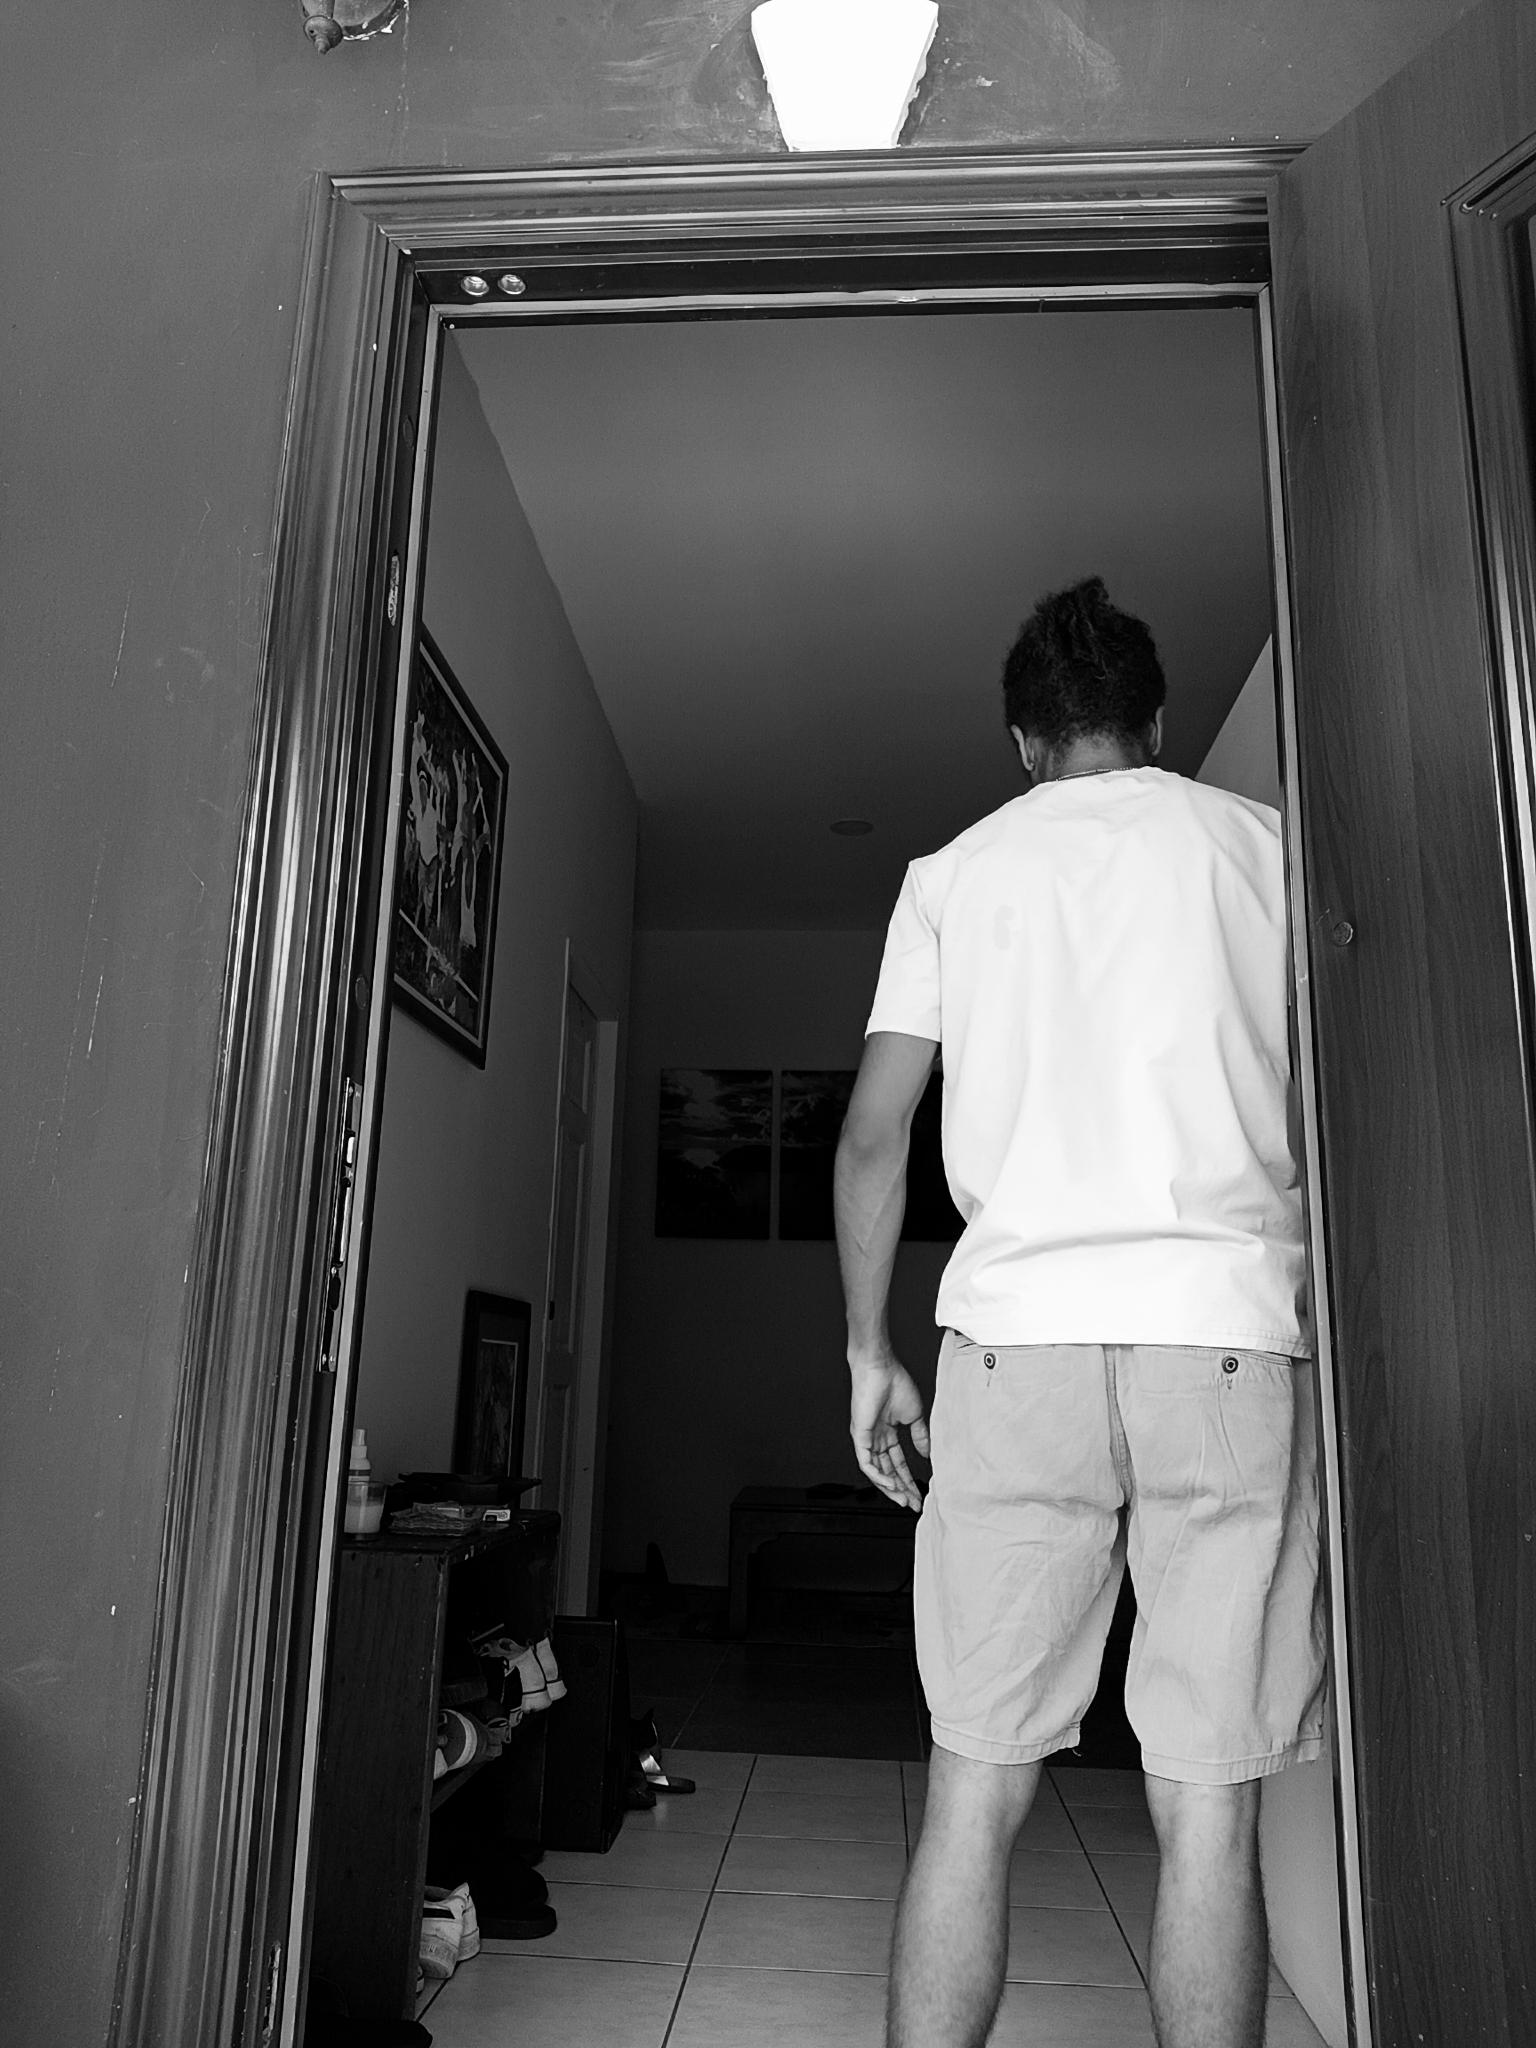back: (824, 569, 1331, 2040)
